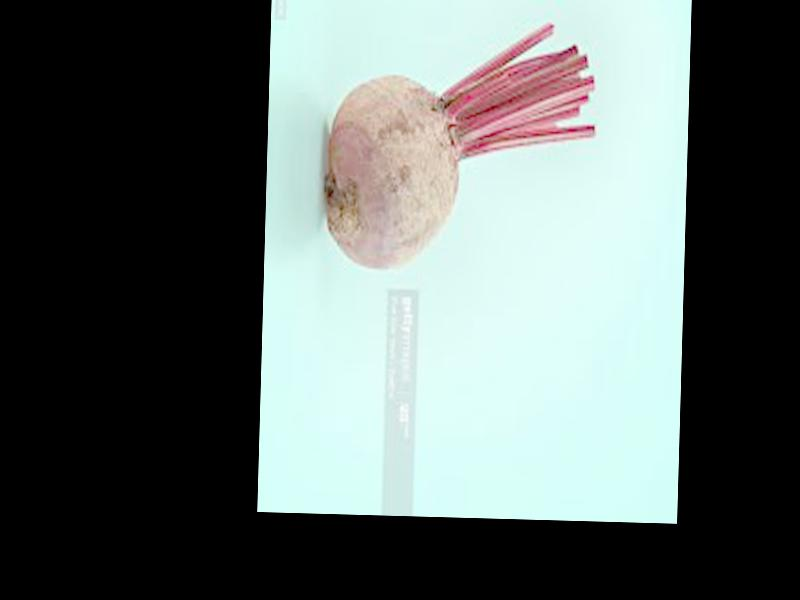Beet: (321, 18, 595, 275)
